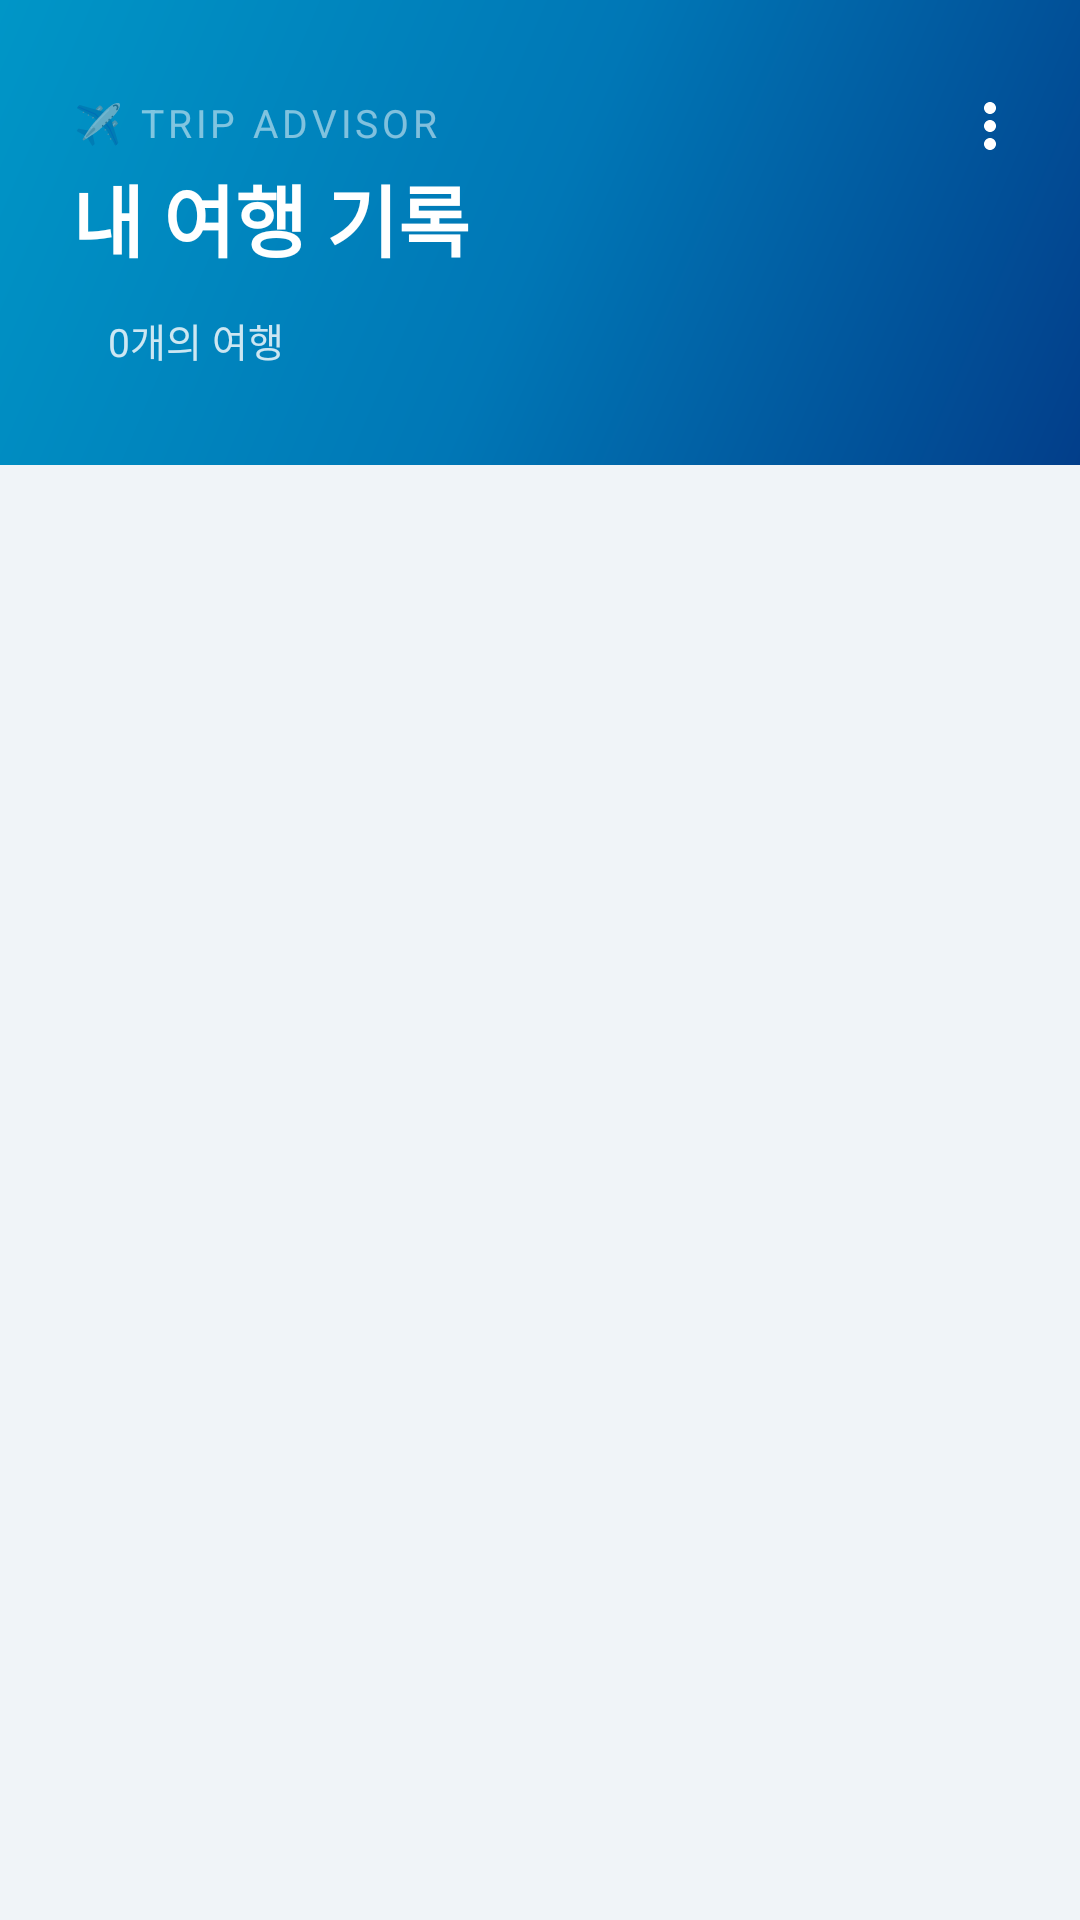

Named icons in this screenshot (1080px×1920px) and their bounding boxes, (x1, y1, x2, y2):
메뉴: (984, 102, 996, 150)
